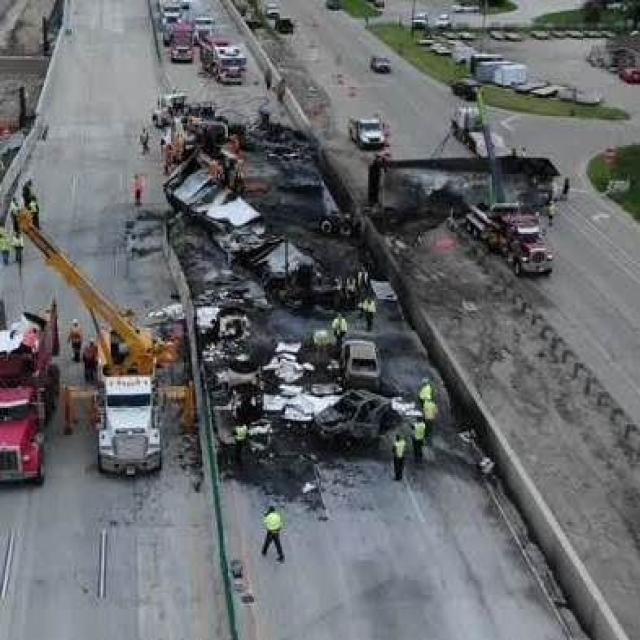traffic_incident: (168, 165, 327, 303), (210, 324, 404, 437), (363, 148, 564, 226)
